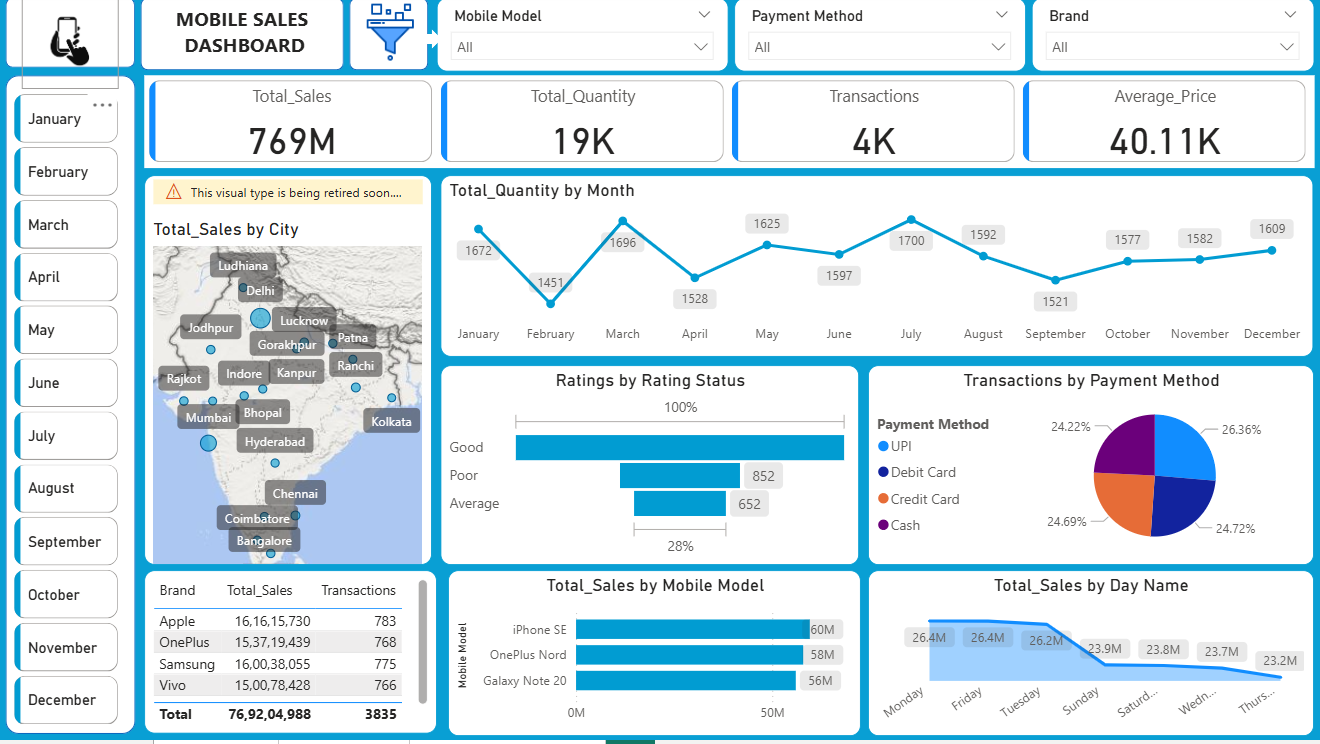

Layout of this report page (visuals, bound fields, positions):
{"tool":"powerbi","page":{"name":"Dashboard","canvas":[1280,720],"ordinal":0},"visuals":[{"type":"shape","box":[7.5,3.8,125,67.5],"z":0},{"type":"shape","box":[7.2,78.4,125.5,635.8],"z":3000},{"type":"advancedSlicerVisual","fields":{"Values":["Custom_Calendar.Date.Variation.Date Hierarchy.Month"]},"box":[10.9,91.7,111,622.5],"z":4000},{"type":"slicer","fields":{"Values":["Sales_Data.Mobile Model"]},"box":[423.8,3.8,281.2,71.2],"z":6000},{"type":"slicer","fields":{"Values":["Sales_Data.Payment Method"]},"box":[710,3.8,281.2,71.2],"z":7000},{"type":"slicer","fields":{"Values":["Sales_Data.Brand"]},"box":[997.5,3.8,272.5,71.2],"z":8000},{"type":"shape","box":[338.8,3.8,76.2,70],"z":9000},{"type":"image","box":[337.5,3.8,81.2,66.2],"z":10000},{"type":"shape","box":[398.1,33.8,30.2,19.3],"z":11000},{"type":"shape","box":[137.5,3.8,196.2,70],"z":12000},{"type":"textbox","box":[156.2,6.2,162.5,63.8],"z":13000},{"type":"map","fields":{"Category":["Sales_Data.City"],"Size":["Sales_Data.Total_Sales"]},"box":[141.2,175,277.5,376.2],"z":14000},{"type":"lineChart","fields":{"Y":["Sales_Data.Total_Quantity"],"Category":["Custom_Calendar.Date.Variation.Date Hierarchy.Month"]},"box":[427.5,175,842.5,175],"z":15000},{"type":"funnel","title":"Ratings by Rating Status","fields":{"Y":["CountNonNull(Sales_Data.Customer Ratings)"],"Category":["Sales_Data.Rating Status"]},"box":[427.5,358.8,403.8,192.5],"z":16000},{"type":"pieChart","fields":{"Y":["Sales_Data.Transactions"],"Category":["Sales_Data.Payment Method"]},"box":[840,358.8,430,192.5],"z":17000},{"type":"clusteredBarChart","fields":{"Y":["Sales_Data.Total_Sales"],"Category":["Sales_Data.Mobile Model"]},"box":[433.8,556.2,398.8,160],"z":18000},{"type":"areaChart","fields":{"Y":["Sales_Data.Total_Sales"],"Category":["Custom_Calendar.Day Name"]},"box":[840,556.2,430,160],"z":19000},{"type":"tableEx","fields":{"Values":["Sales_Data.Brand","Sales_Data.Total_Sales","Sales_Data.Transactions"]},"box":[141.2,556.2,282.5,157.5],"z":20000},{"type":"cardVisual","fields":{"Data":["Sales_Data.Total_Sales","Sales_Data.Total_Quantity","Sales_Data.Transactions","Sales_Data.Average_Price"]},"box":[141.2,78.4,1129.2,89.3],"z":21001},{"type":"image","box":[22.9,0,92.9,91.7],"z":21002}]}

Visuals, with their boxes in screenshot pixels (x1, y1, x2, y2), scaled from the page's 1280x720 canvas onto the 1320x744 screenshot:
shape: <bbox>8, 4, 137, 74</bbox>
shape: <bbox>7, 81, 137, 738</bbox>
advancedSlicerVisual - Custom_Calendar.Date.Variation.Date Hierarchy.Month: <bbox>11, 95, 126, 738</bbox>
slicer - Sales_Data.Mobile Model: <bbox>437, 4, 727, 78</bbox>
slicer - Sales_Data.Payment Method: <bbox>732, 4, 1022, 78</bbox>
slicer - Sales_Data.Brand: <bbox>1029, 4, 1310, 78</bbox>
shape: <bbox>349, 4, 428, 76</bbox>
image: <bbox>348, 4, 432, 72</bbox>
shape: <bbox>411, 35, 442, 55</bbox>
shape: <bbox>142, 4, 344, 76</bbox>
textbox: <bbox>161, 6, 329, 72</bbox>
map - Sales_Data.City x Sales_Data.Total_Sales: <bbox>146, 181, 432, 570</bbox>
lineChart - Sales_Data.Total_Quantity x Custom_Calendar.Date.Variation.Date Hierarchy.Month: <bbox>441, 181, 1310, 362</bbox>
"Ratings by Rating Status" funnel: <bbox>441, 371, 857, 570</bbox>
pieChart - Sales_Data.Transactions x Sales_Data.Payment Method: <bbox>866, 371, 1310, 570</bbox>
clusteredBarChart - Sales_Data.Total_Sales x Sales_Data.Mobile Model: <bbox>447, 575, 859, 740</bbox>
areaChart - Sales_Data.Total_Sales x Custom_Calendar.Day Name: <bbox>866, 575, 1310, 740</bbox>
tableEx - Sales_Data.Brand x Sales_Data.Total_Sales: <bbox>146, 575, 437, 737</bbox>
cardVisual - Sales_Data.Total_Sales x Sales_Data.Total_Quantity: <bbox>146, 81, 1310, 173</bbox>
image: <bbox>24, 0, 119, 95</bbox>
